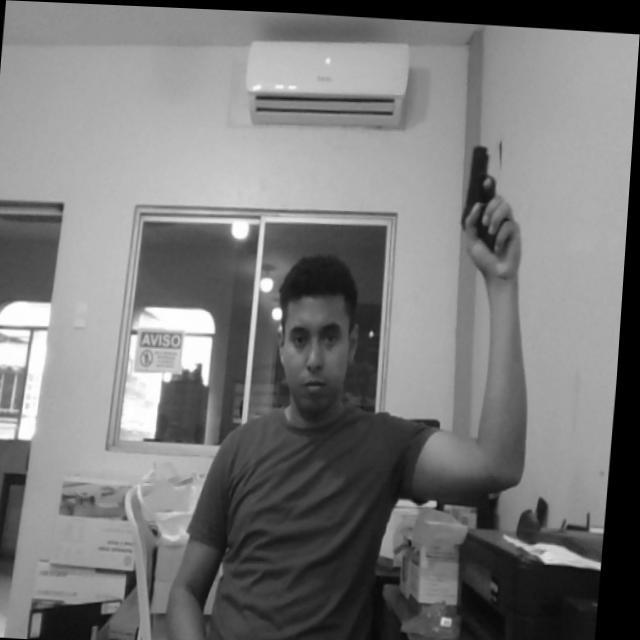weapon: (461, 138, 509, 248)
